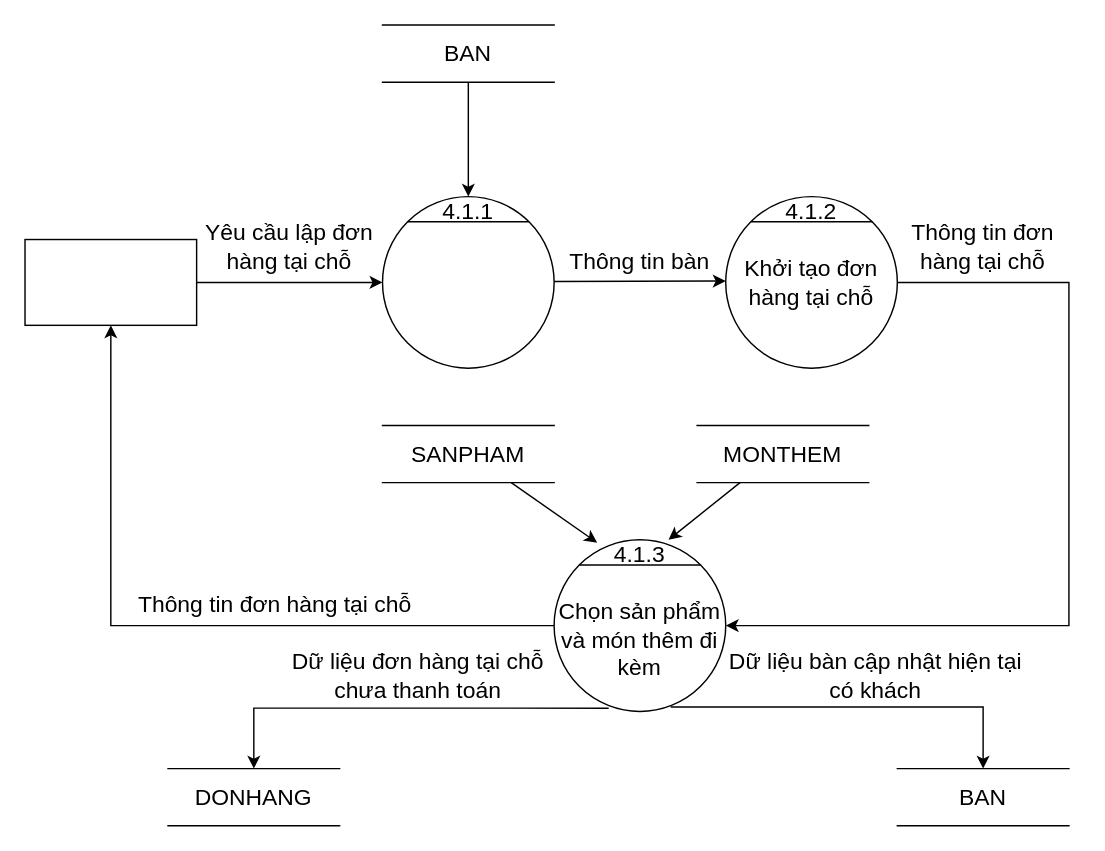
This 1105x851 diagram has some shape labels left out. The box of each missing label's shape, as (x1, y1, x2, y2) in pixels:
Chọn bàn: (381, 195, 554, 368)
Nhân viên bán hàng: (24, 238, 197, 325)
